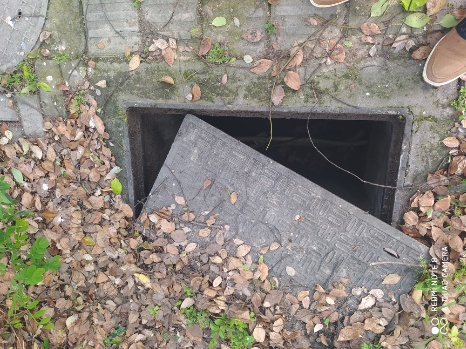uncovered: (115, 94, 441, 327)
